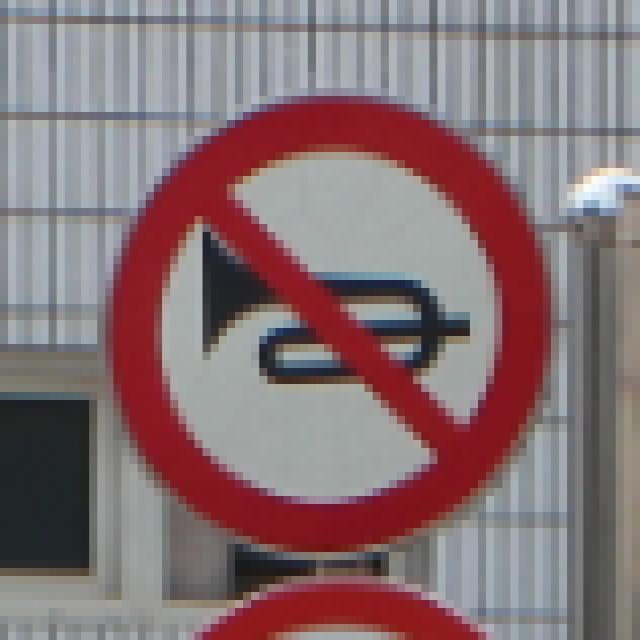No Horn: (108, 86, 562, 560)
